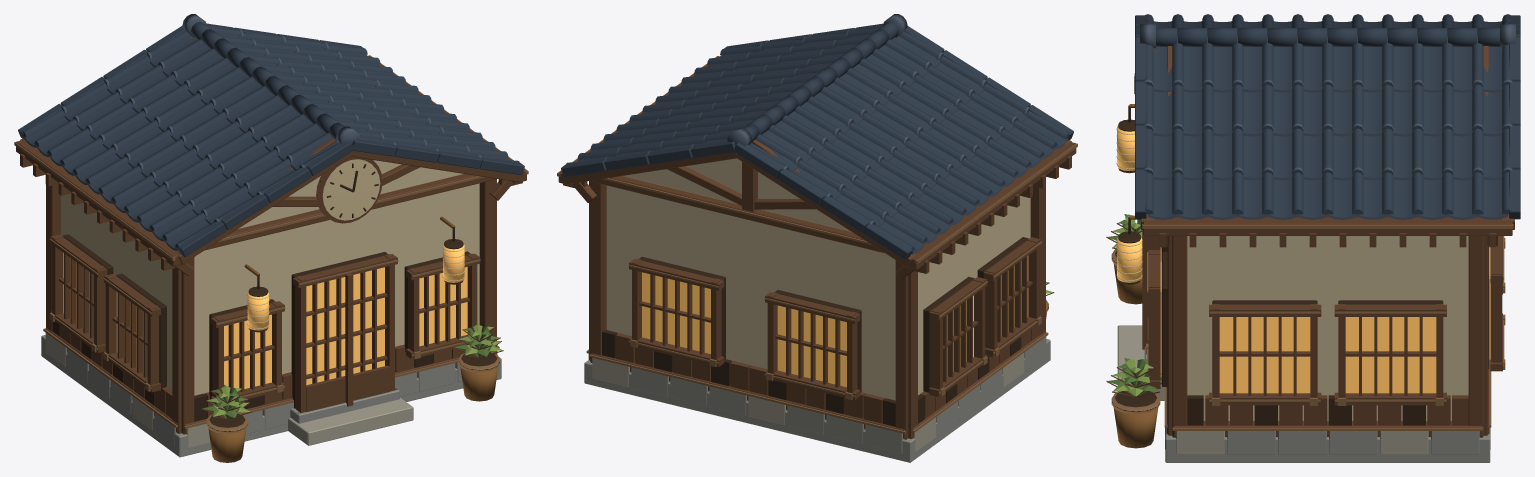
The picture shows the model from 3 angles, left to right: view 1: azimuth 30°, elevation 25°; view 2: azimuth 150°, elevation 25°; view 3: azimuth 270°, elevation 25°; orthographic projection. The views are drawn at different scales.
Visible parts, largest first — view 1: compact_rush_station_geometry; view 2: compact_rush_station_geometry; view 3: compact_rush_station_geometry.
Boxes of the visible parts, box(x1,y1,x2,y2) form: compact_rush_station_geometry: box(14, 14, 528, 462); compact_rush_station_geometry: box(557, 14, 1077, 462); compact_rush_station_geometry: box(1106, 14, 1520, 462).
Size of the model in its own units: 1.04 by 0.817 by 0.8874.
